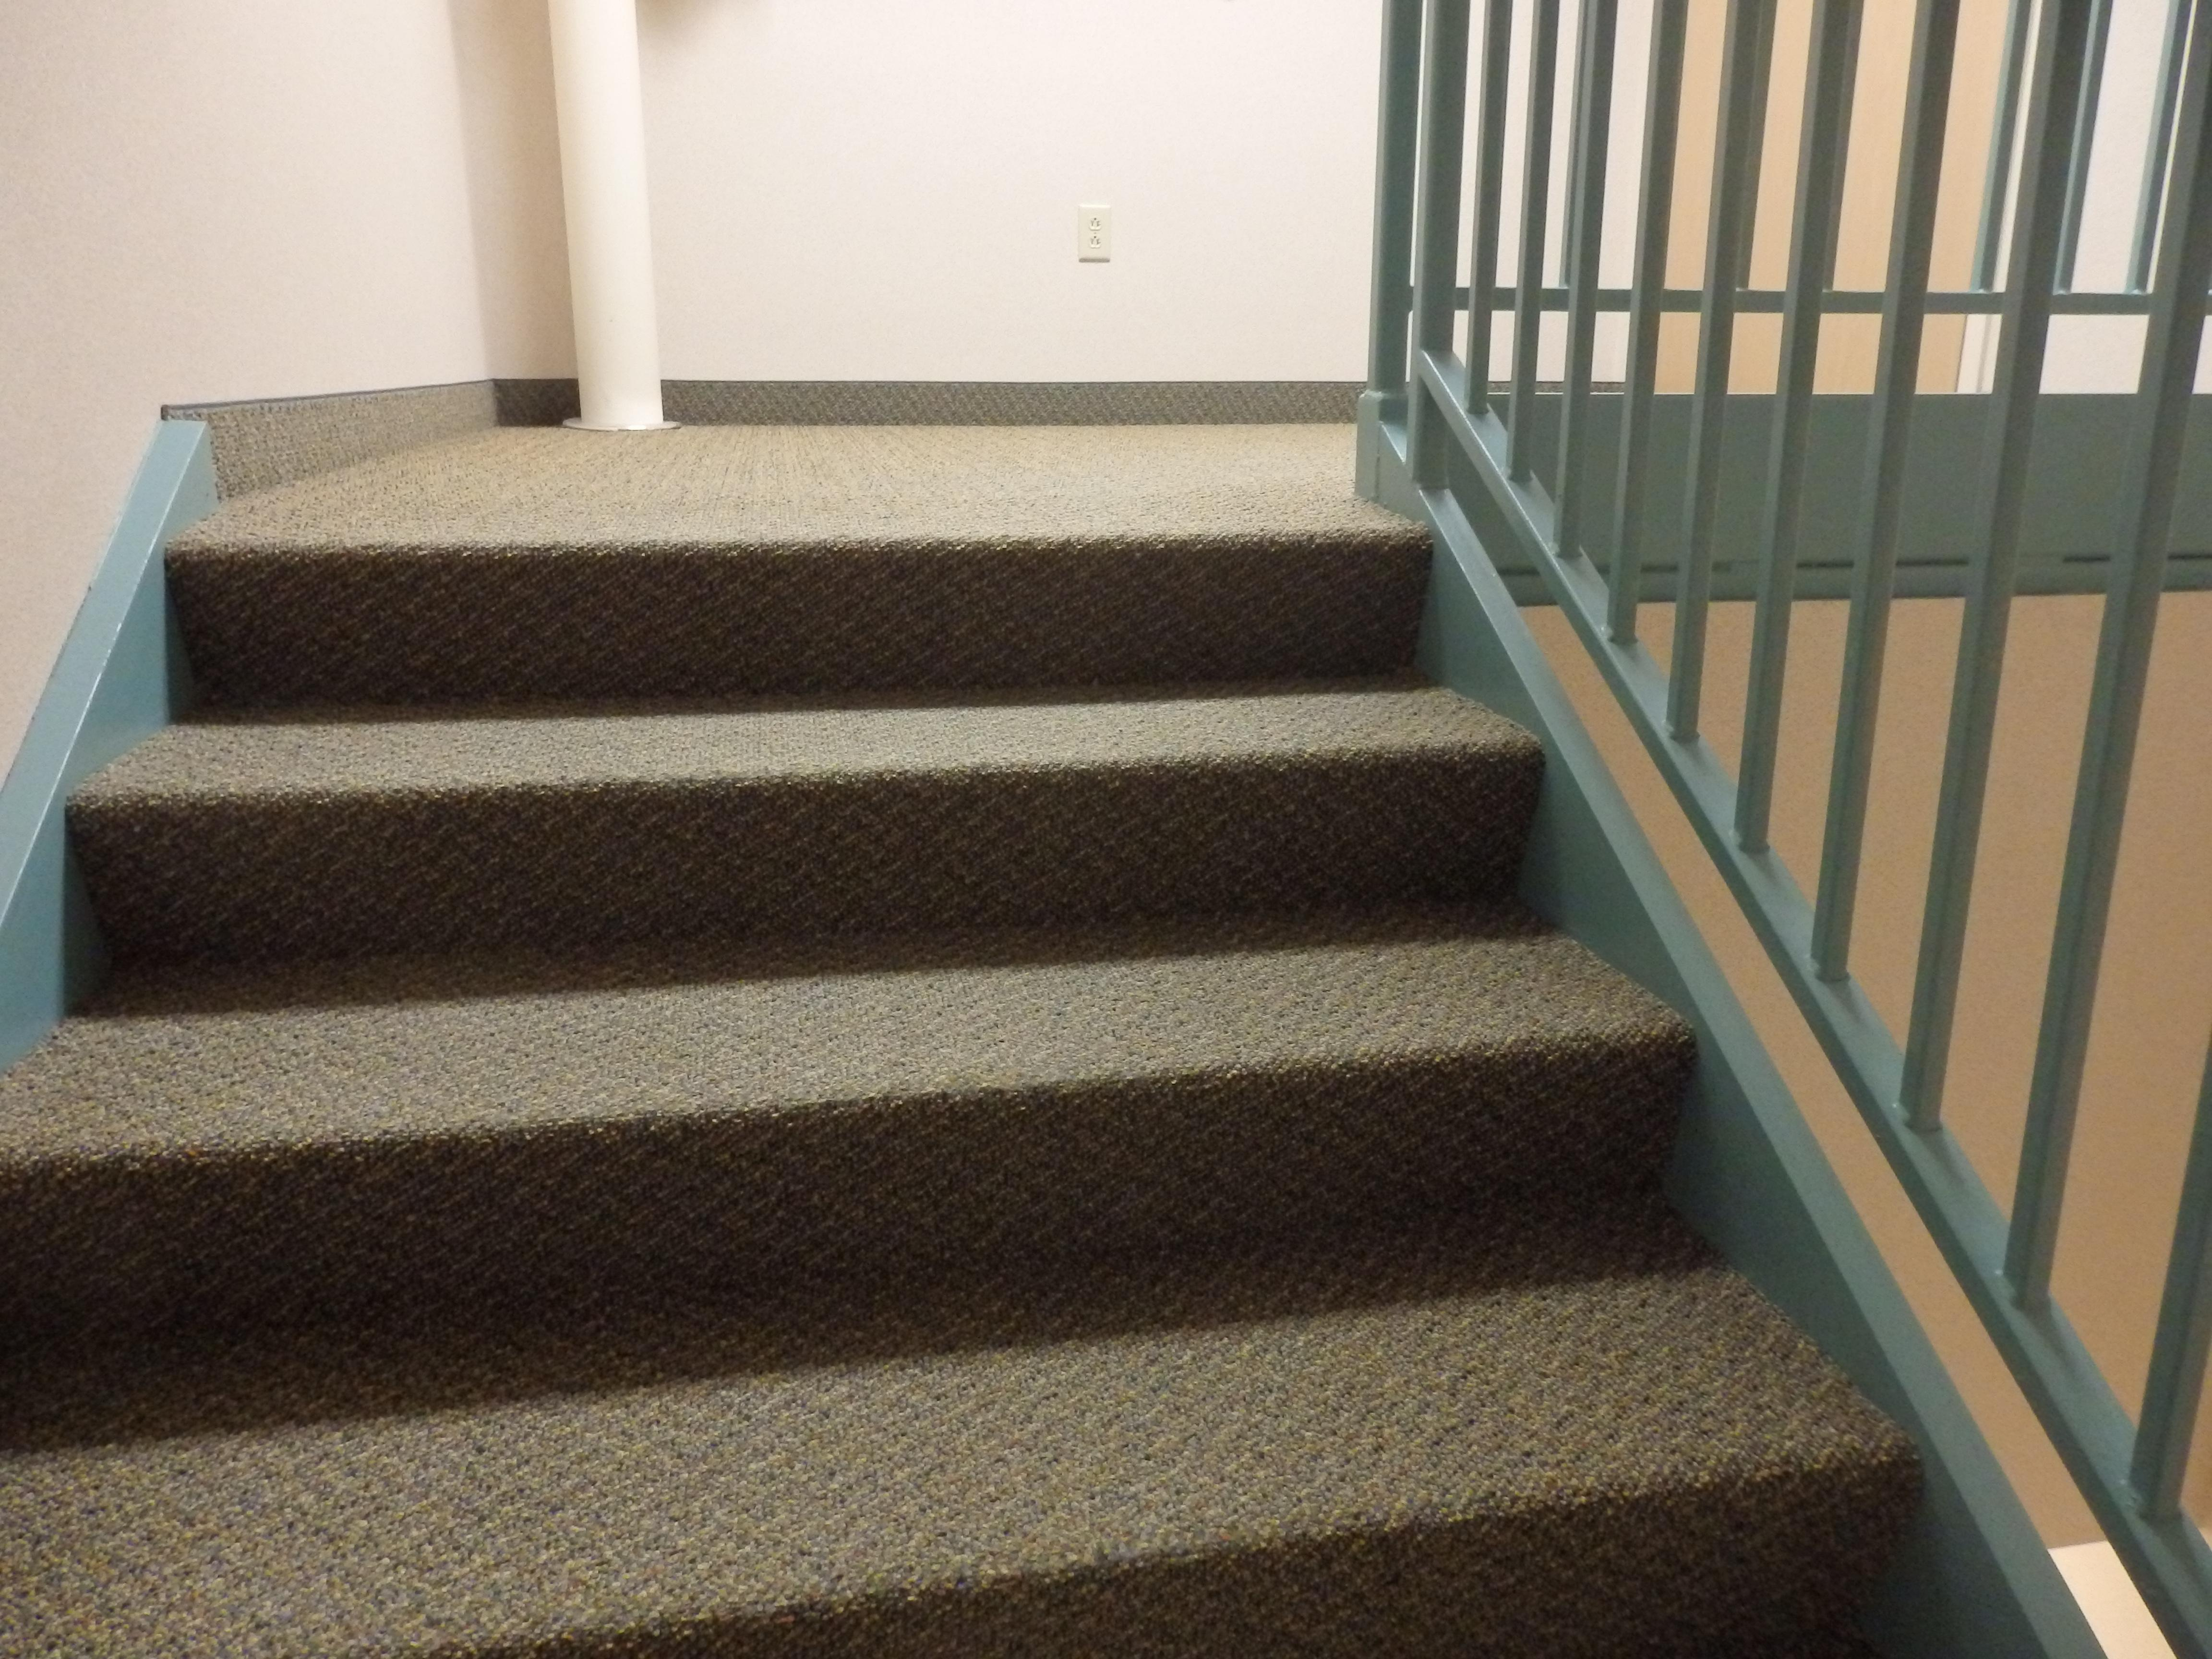stairs_up: (111, 530, 1841, 1598)
